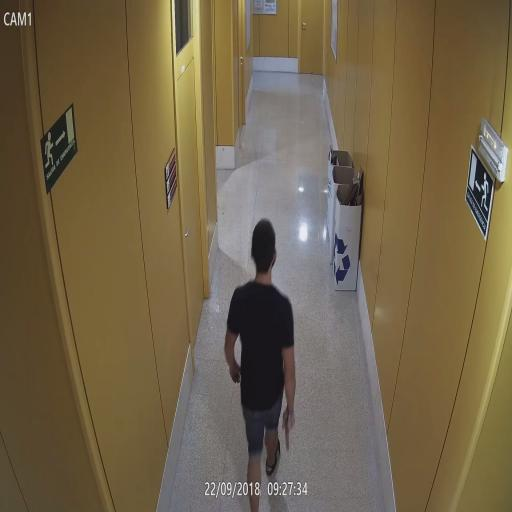Handgun: (282, 405, 296, 453)
